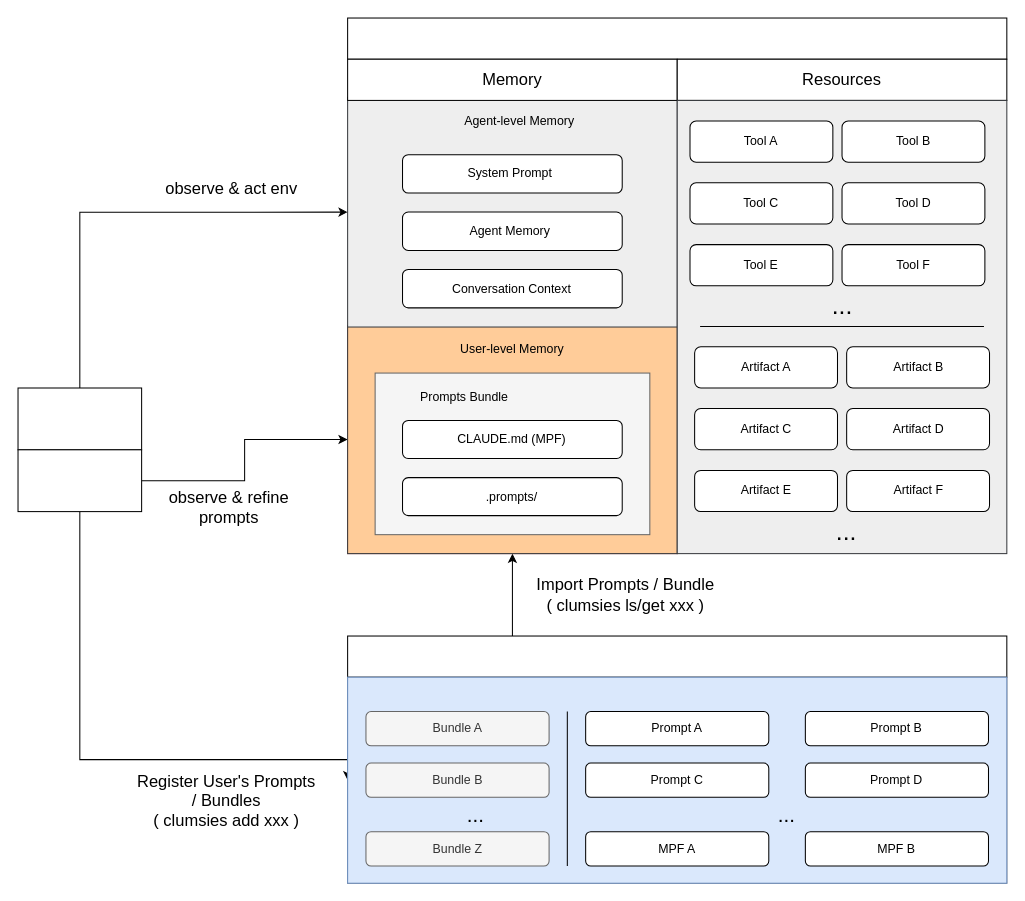
This 1025x901 diagram has some shape labels left out. The centre of each missing label's shape, as x and y in pixels:
"Agent" belongs at (x=79, y=418).
"Environment" belongs at (x=677, y=38).
"User" belongs at (x=79, y=480).
"User Prompts Registry" belongs at (x=677, y=656).
